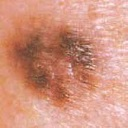Melanoma: (19, 25, 95, 100)
